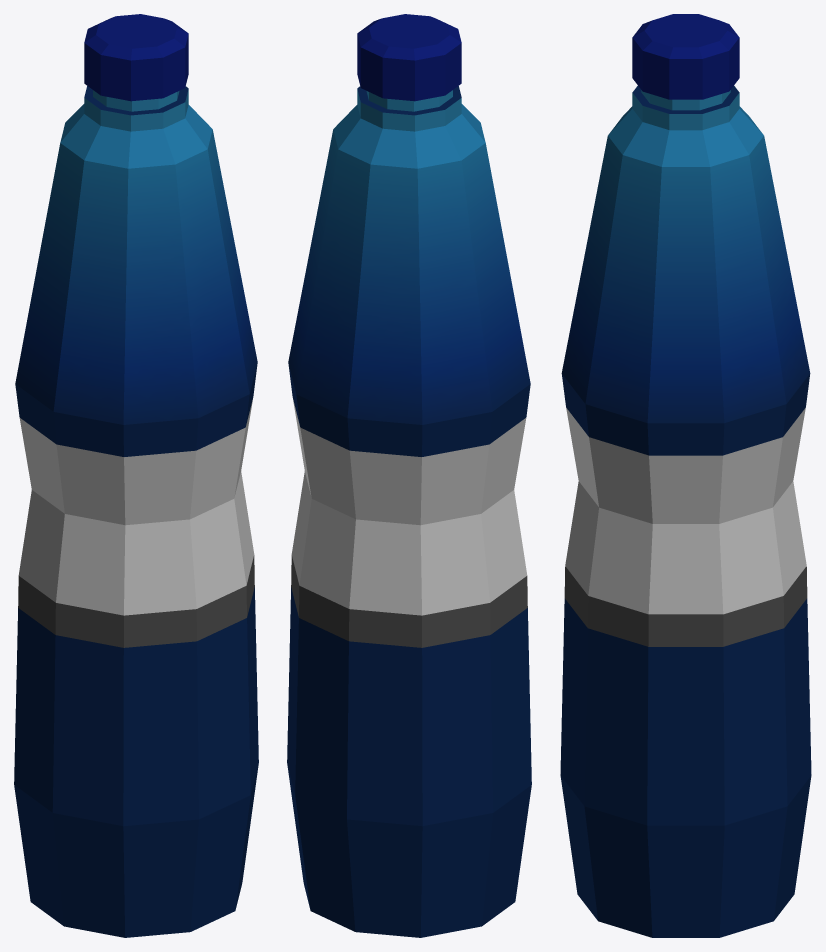
Rendered from BottleV2.fbx.
3 views of the same model, side by side, from view 1: azimuth 30°, elevation 25°; view 2: azimuth 150°, elevation 25°; view 3: azimuth 270°, elevation 25° (orthographic).
Parts seen in each view (by area): view 1: BottleV2; view 2: BottleV2; view 3: BottleV2.
Boxes of the visible parts, x1,y1,x2,y2 form: BottleV2: (14,14,258,937); BottleV2: (287,14,531,937); BottleV2: (560,14,811,937).
Bounding box in the file's own units: 10.1 × 40.31 × 10.62.
